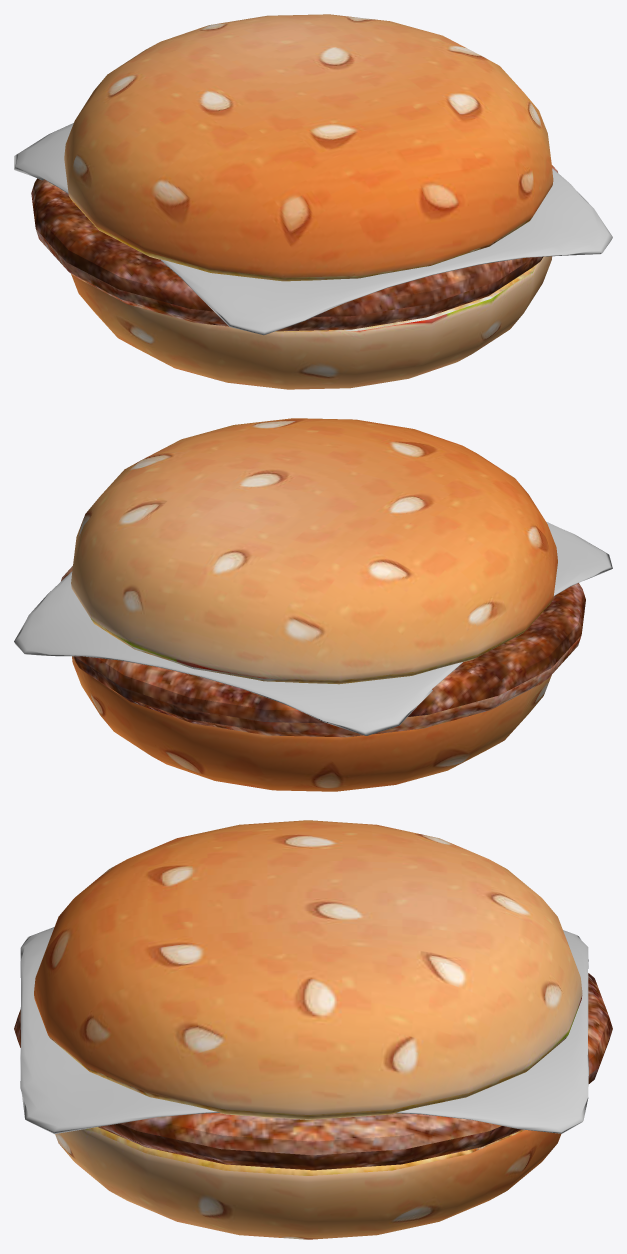
The model's file is Stack and Cheez Burger.fbx.
3 views of the same model, one above another, from view 1: azimuth 30°, elevation 25°; view 2: azimuth 150°, elevation 25°; view 3: azimuth 270°, elevation 25° (orthographic). The views are drawn at different scales.
Visible parts, largest first — view 1: pSphere9; view 2: pSphere9; view 3: pSphere9.
Part boxes in pixels (x1,y1,x2,y2): pSphere9: [14, 14, 612, 389]; pSphere9: [14, 418, 612, 791]; pSphere9: [14, 820, 612, 1239].
Size of the model in its own units: 6.51 by 3.37 by 6.51.
